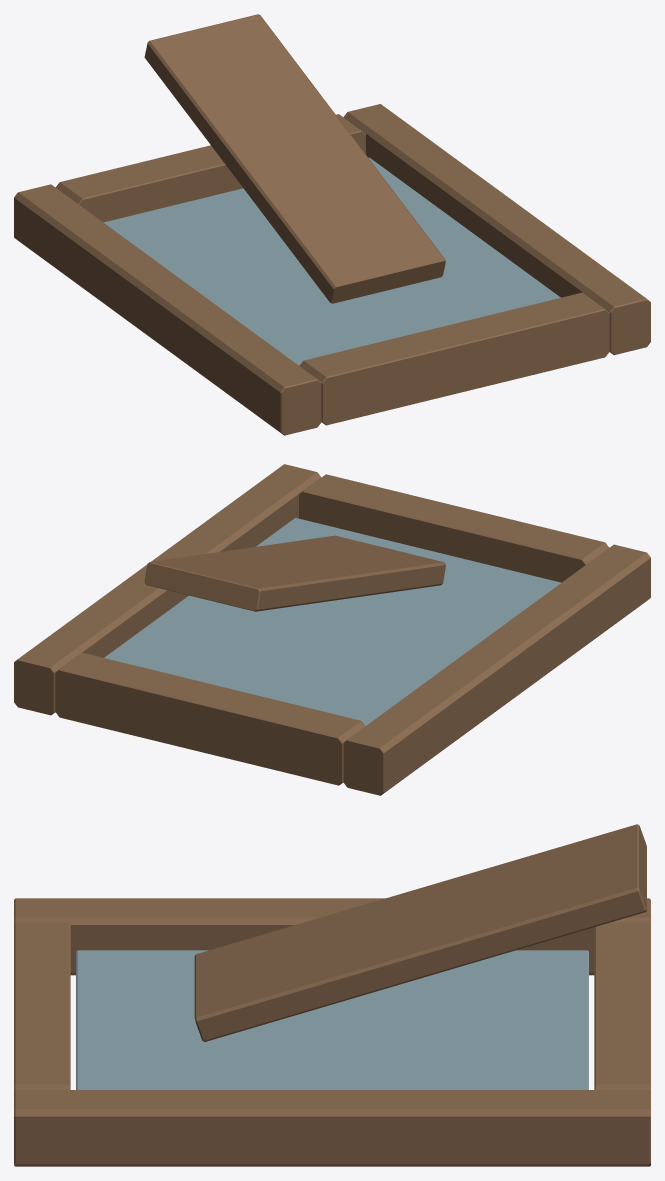
Rendered from photo_frame.glb.
3 renders of one model, top to bottom at view 1: azimuth 30°, elevation 25°; view 2: azimuth 150°, elevation 25°; view 3: azimuth 270°, elevation 25°, orthographic. The views are drawn at different scales.
Visible parts, largest first — view 1: photo_frame; view 2: photo_frame; view 3: photo_frame.
Part boxes in pixels (x1,y1,x2,y2): photo_frame: [14, 14, 650, 435]; photo_frame: [14, 464, 650, 795]; photo_frame: [14, 824, 650, 1166].
Bounding box in the file's own units: 0.144 × 0.0641 × 0.18.
